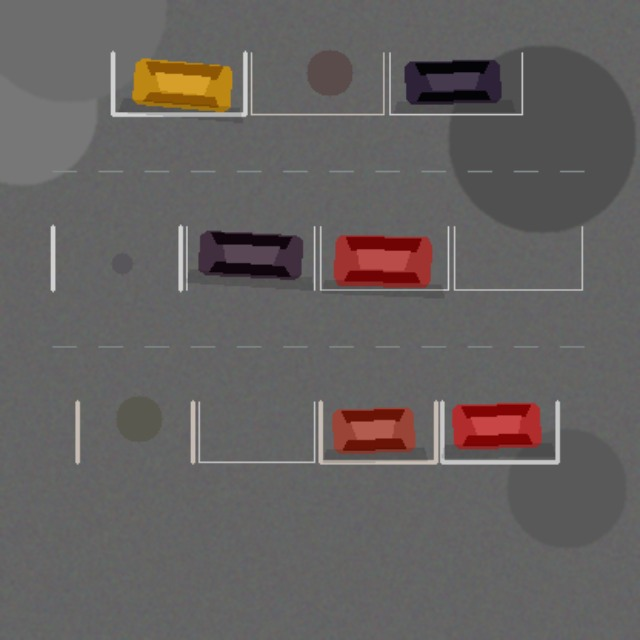space-empty: (251, 52, 383, 114), (52, 226, 180, 289), (454, 226, 582, 289), (198, 402, 314, 462), (77, 402, 192, 462)
space-occupied: (112, 52, 245, 114), (389, 52, 522, 114), (186, 226, 314, 289), (320, 226, 448, 289), (320, 402, 435, 462), (442, 402, 557, 462)
